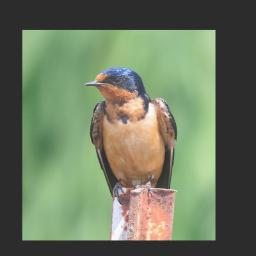Swallow: (84, 67, 178, 207)
